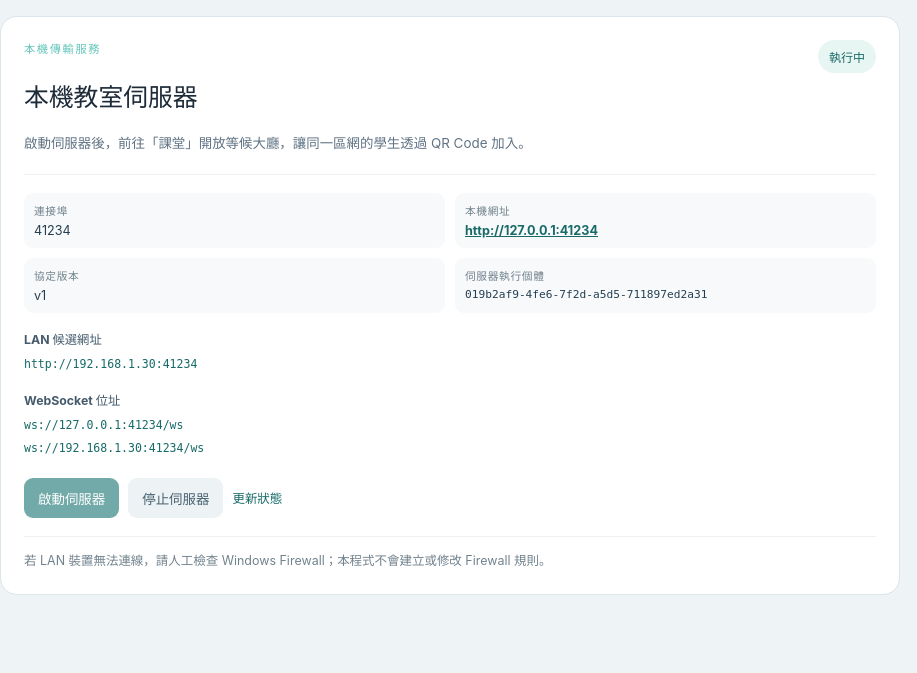
Scenario: LocalServerPanel › keeps the running server visible when the backend rejects a normal stop for an active session
Expected: the text "http://192.168.1.30:41234" is shown, [24,357,197,371]
Click the button "停止伺服器".
click(176, 498)  # box [128,478,223,518]
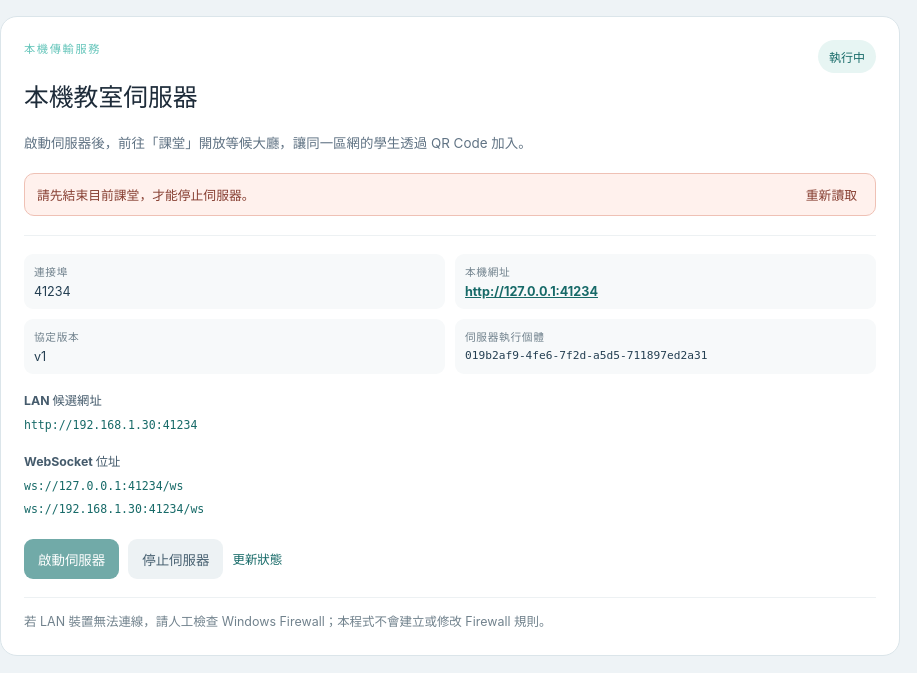
Expected: the text "執行中" is shown, [818,40,876,73]
Expected: the message shows "請先結束目前課堂，才能停止伺服器。", [37,188,254,203]
